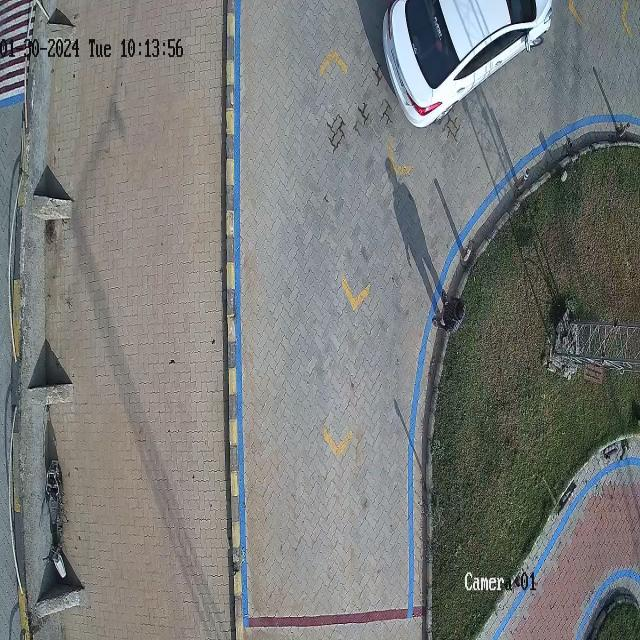car: (381, 0, 552, 127)
